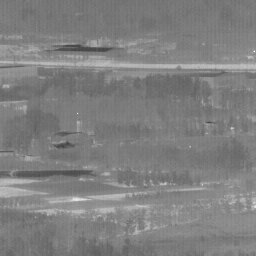aircraft: (76, 112, 78, 114)
